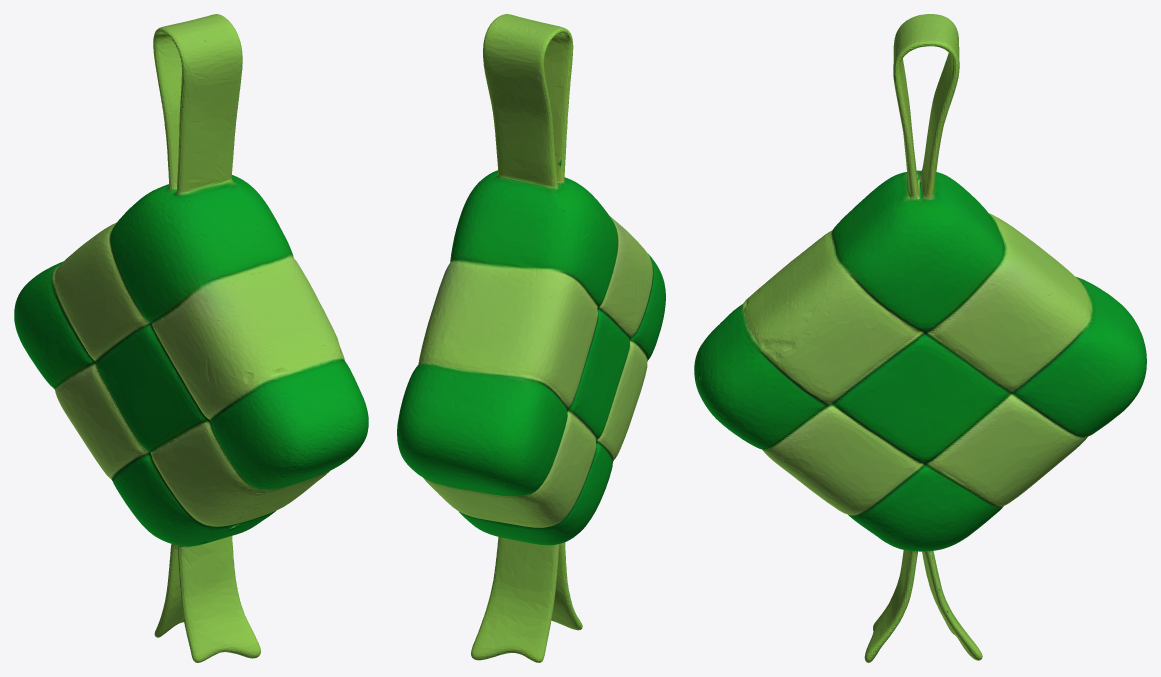
File: ketupat.glb
The picture shows the model from 3 angles, left to right: view 1: azimuth 30°, elevation 25°; view 2: azimuth 150°, elevation 25°; view 3: azimuth 270°, elevation 25°; orthographic projection.
Parts seen in each view (by area): view 1: world; view 2: world; view 3: world.
Part boxes in pixels (x1,y1,x2,y2): world: (14, 14, 368, 662); world: (397, 14, 665, 662); world: (694, 14, 1146, 662).
Bounding box in the file's own units: 0.5621 × 1.99 × 1.32.
Materials: 1 (1 with a texture image).
